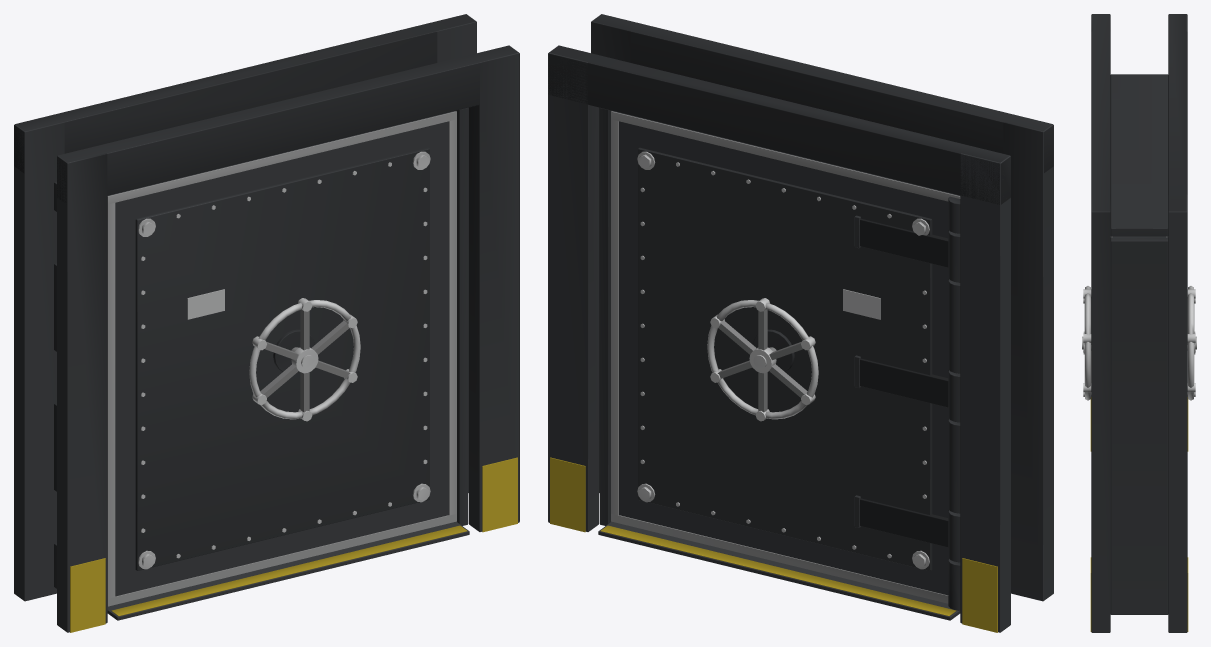
The model's file is blast_door.gltf.
3 views of the same model, side by side, from view 1: azimuth 30°, elevation 25°; view 2: azimuth 150°, elevation 25°; view 3: azimuth 270°, elevation 25° (orthographic). The views are drawn at different scales.
Parts seen in each view (by area): view 1: BlastDoor_Leaf, BlastDoor_Frame_L, BlastDoor_Frame_Head, BlastDoor_Frame_R, BlastDoor_Hardware, BlastDoor_Sill, BlastDoor_Kick_Sill, BlastDoor_Kick_R, BlastDoor_Kick_L, BlastDoor_Knuckles_NoCollide; view 2: BlastDoor_Leaf, BlastDoor_Frame_L, BlastDoor_Frame_Head, BlastDoor_Frame_R, BlastDoor_Hardware, BlastDoor_Sill, BlastDoor_Knuckles_NoCollide, BlastDoor_Kick_Sill, BlastDoor_Kick_R, BlastDoor_Kick_L; view 3: BlastDoor_Frame_R, BlastDoor_Frame_Head, BlastDoor_Hardware, BlastDoor_Kick_R, BlastDoor_Kick_L.
Part boxes in pixels (x1,y1,x2,y2): BlastDoor_Leaf: [108, 111, 455, 596]; BlastDoor_Frame_L: [14, 122, 107, 632]; BlastDoor_Frame_Head: [14, 14, 518, 202]; BlastDoor_Frame_R: [437, 21, 519, 531]; BlastDoor_Hardware: [107, 111, 456, 606]; BlastDoor_Sill: [107, 521, 469, 620]; BlastDoor_Kick_Sill: [111, 525, 467, 616]; BlastDoor_Kick_R: [482, 457, 517, 532]; BlastDoor_Kick_L: [70, 558, 105, 632]; BlastDoor_Knuckles_NoCollide: [54, 181, 56, 588]; BlastDoor_Leaf: [613, 111, 960, 595]; BlastDoor_Frame_L: [960, 122, 1053, 632]; BlastDoor_Frame_Head: [548, 14, 1053, 204]; BlastDoor_Frame_R: [548, 21, 630, 531]; BlastDoor_Hardware: [611, 111, 960, 603]; BlastDoor_Sill: [598, 521, 960, 620]; BlastDoor_Knuckles_NoCollide: [948, 196, 960, 610]; BlastDoor_Kick_Sill: [600, 525, 956, 616]; BlastDoor_Kick_R: [550, 457, 585, 532]; BlastDoor_Kick_L: [962, 558, 997, 632]; BlastDoor_Frame_R: [1091, 194, 1187, 632]; BlastDoor_Frame_Head: [1091, 14, 1187, 236]; BlastDoor_Hardware: [1082, 236, 1196, 400]; BlastDoor_Kick_R: [1090, 557, 1188, 631]; BlastDoor_Kick_L: [1090, 397, 1188, 451].
Bounding box in the file's own units: 2.44 × 2.42 × 0.598.
